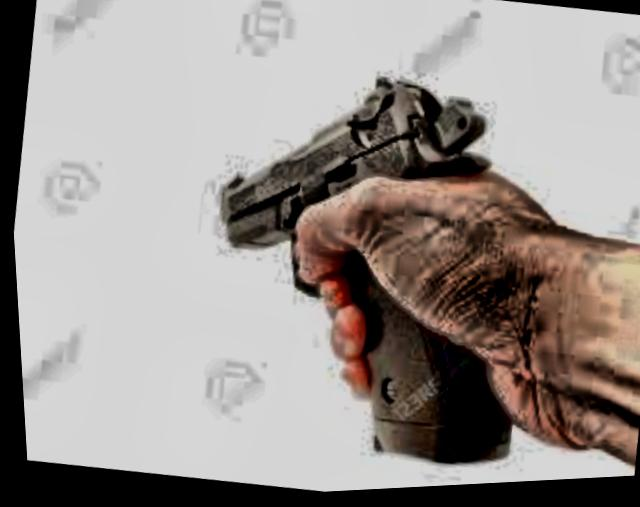pistol: (170, 27, 563, 485)
